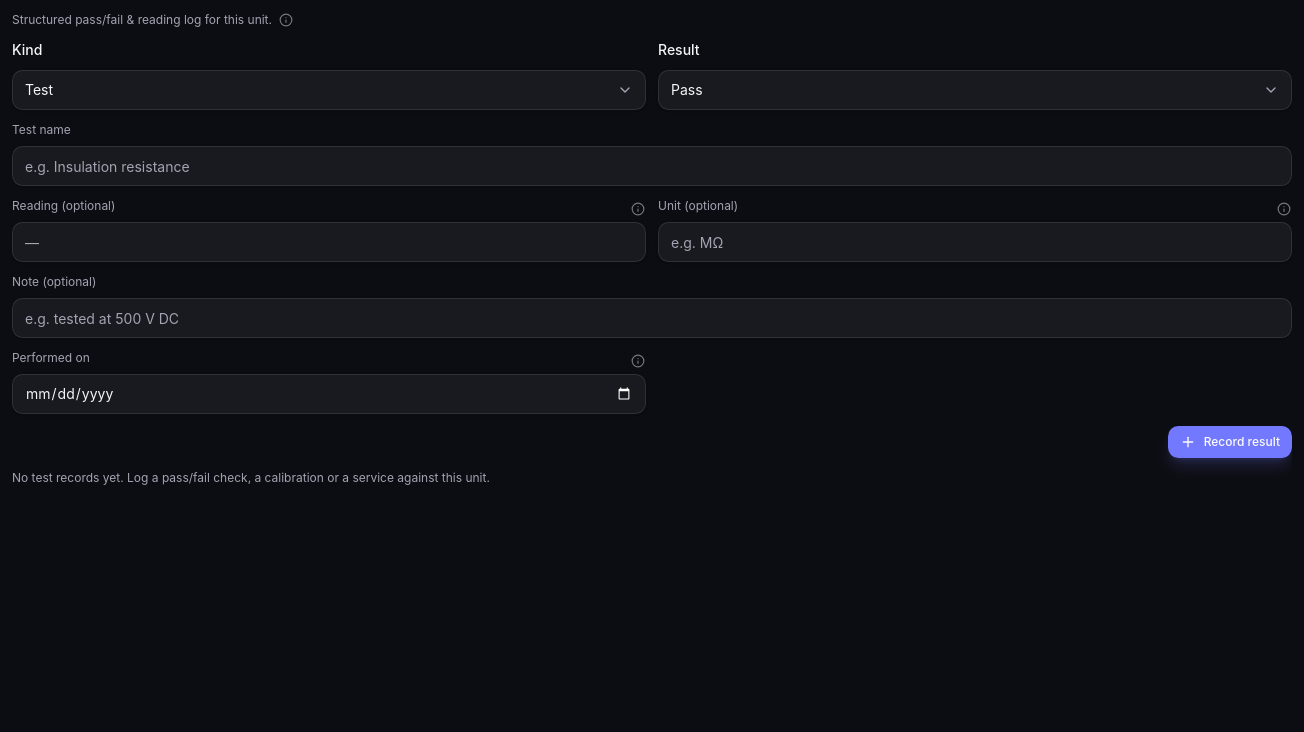
Scenario: TestRecordsEditor (feature-gap G7) › blocks submit and shows a field error when the name is blank
Click the button with test id "record-test-result": click(1230, 442) x1=1168 y1=426 x2=1292 y2=458
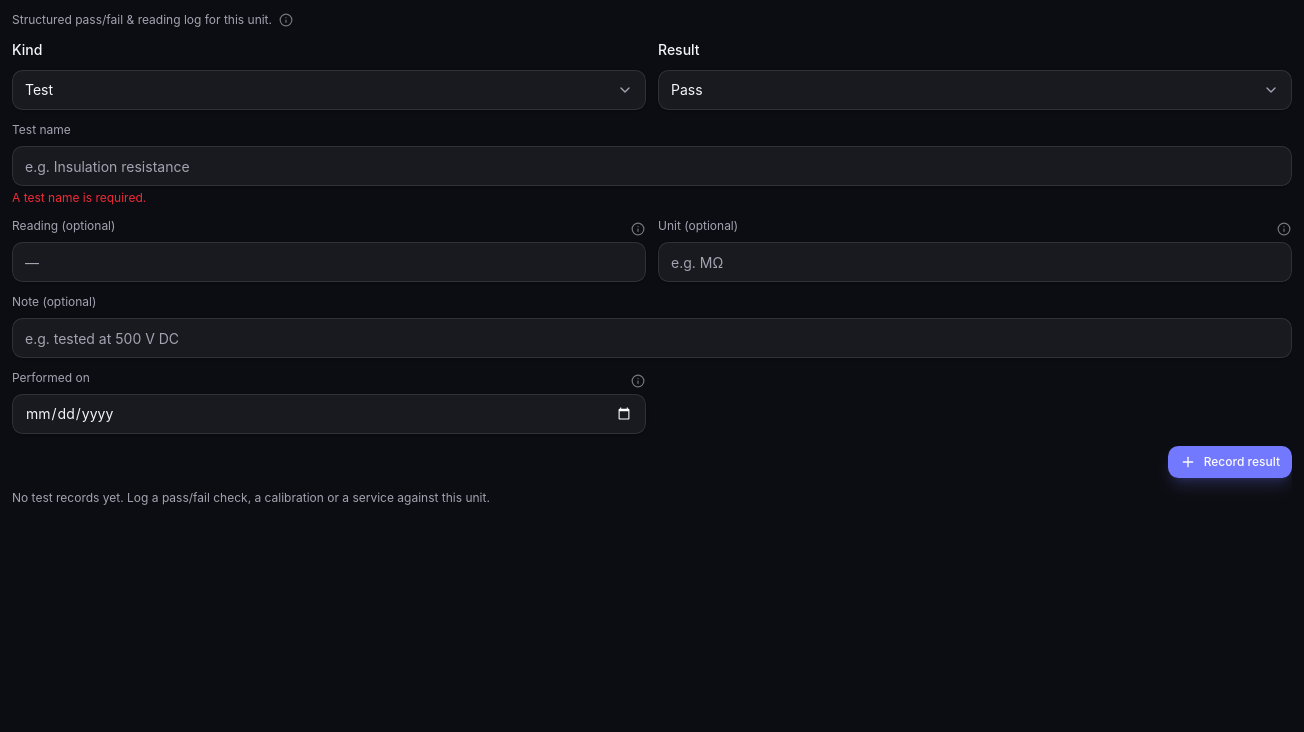
Now the text "A test name is required." is shown, box x1=12 y1=190 x2=146 y2=205
